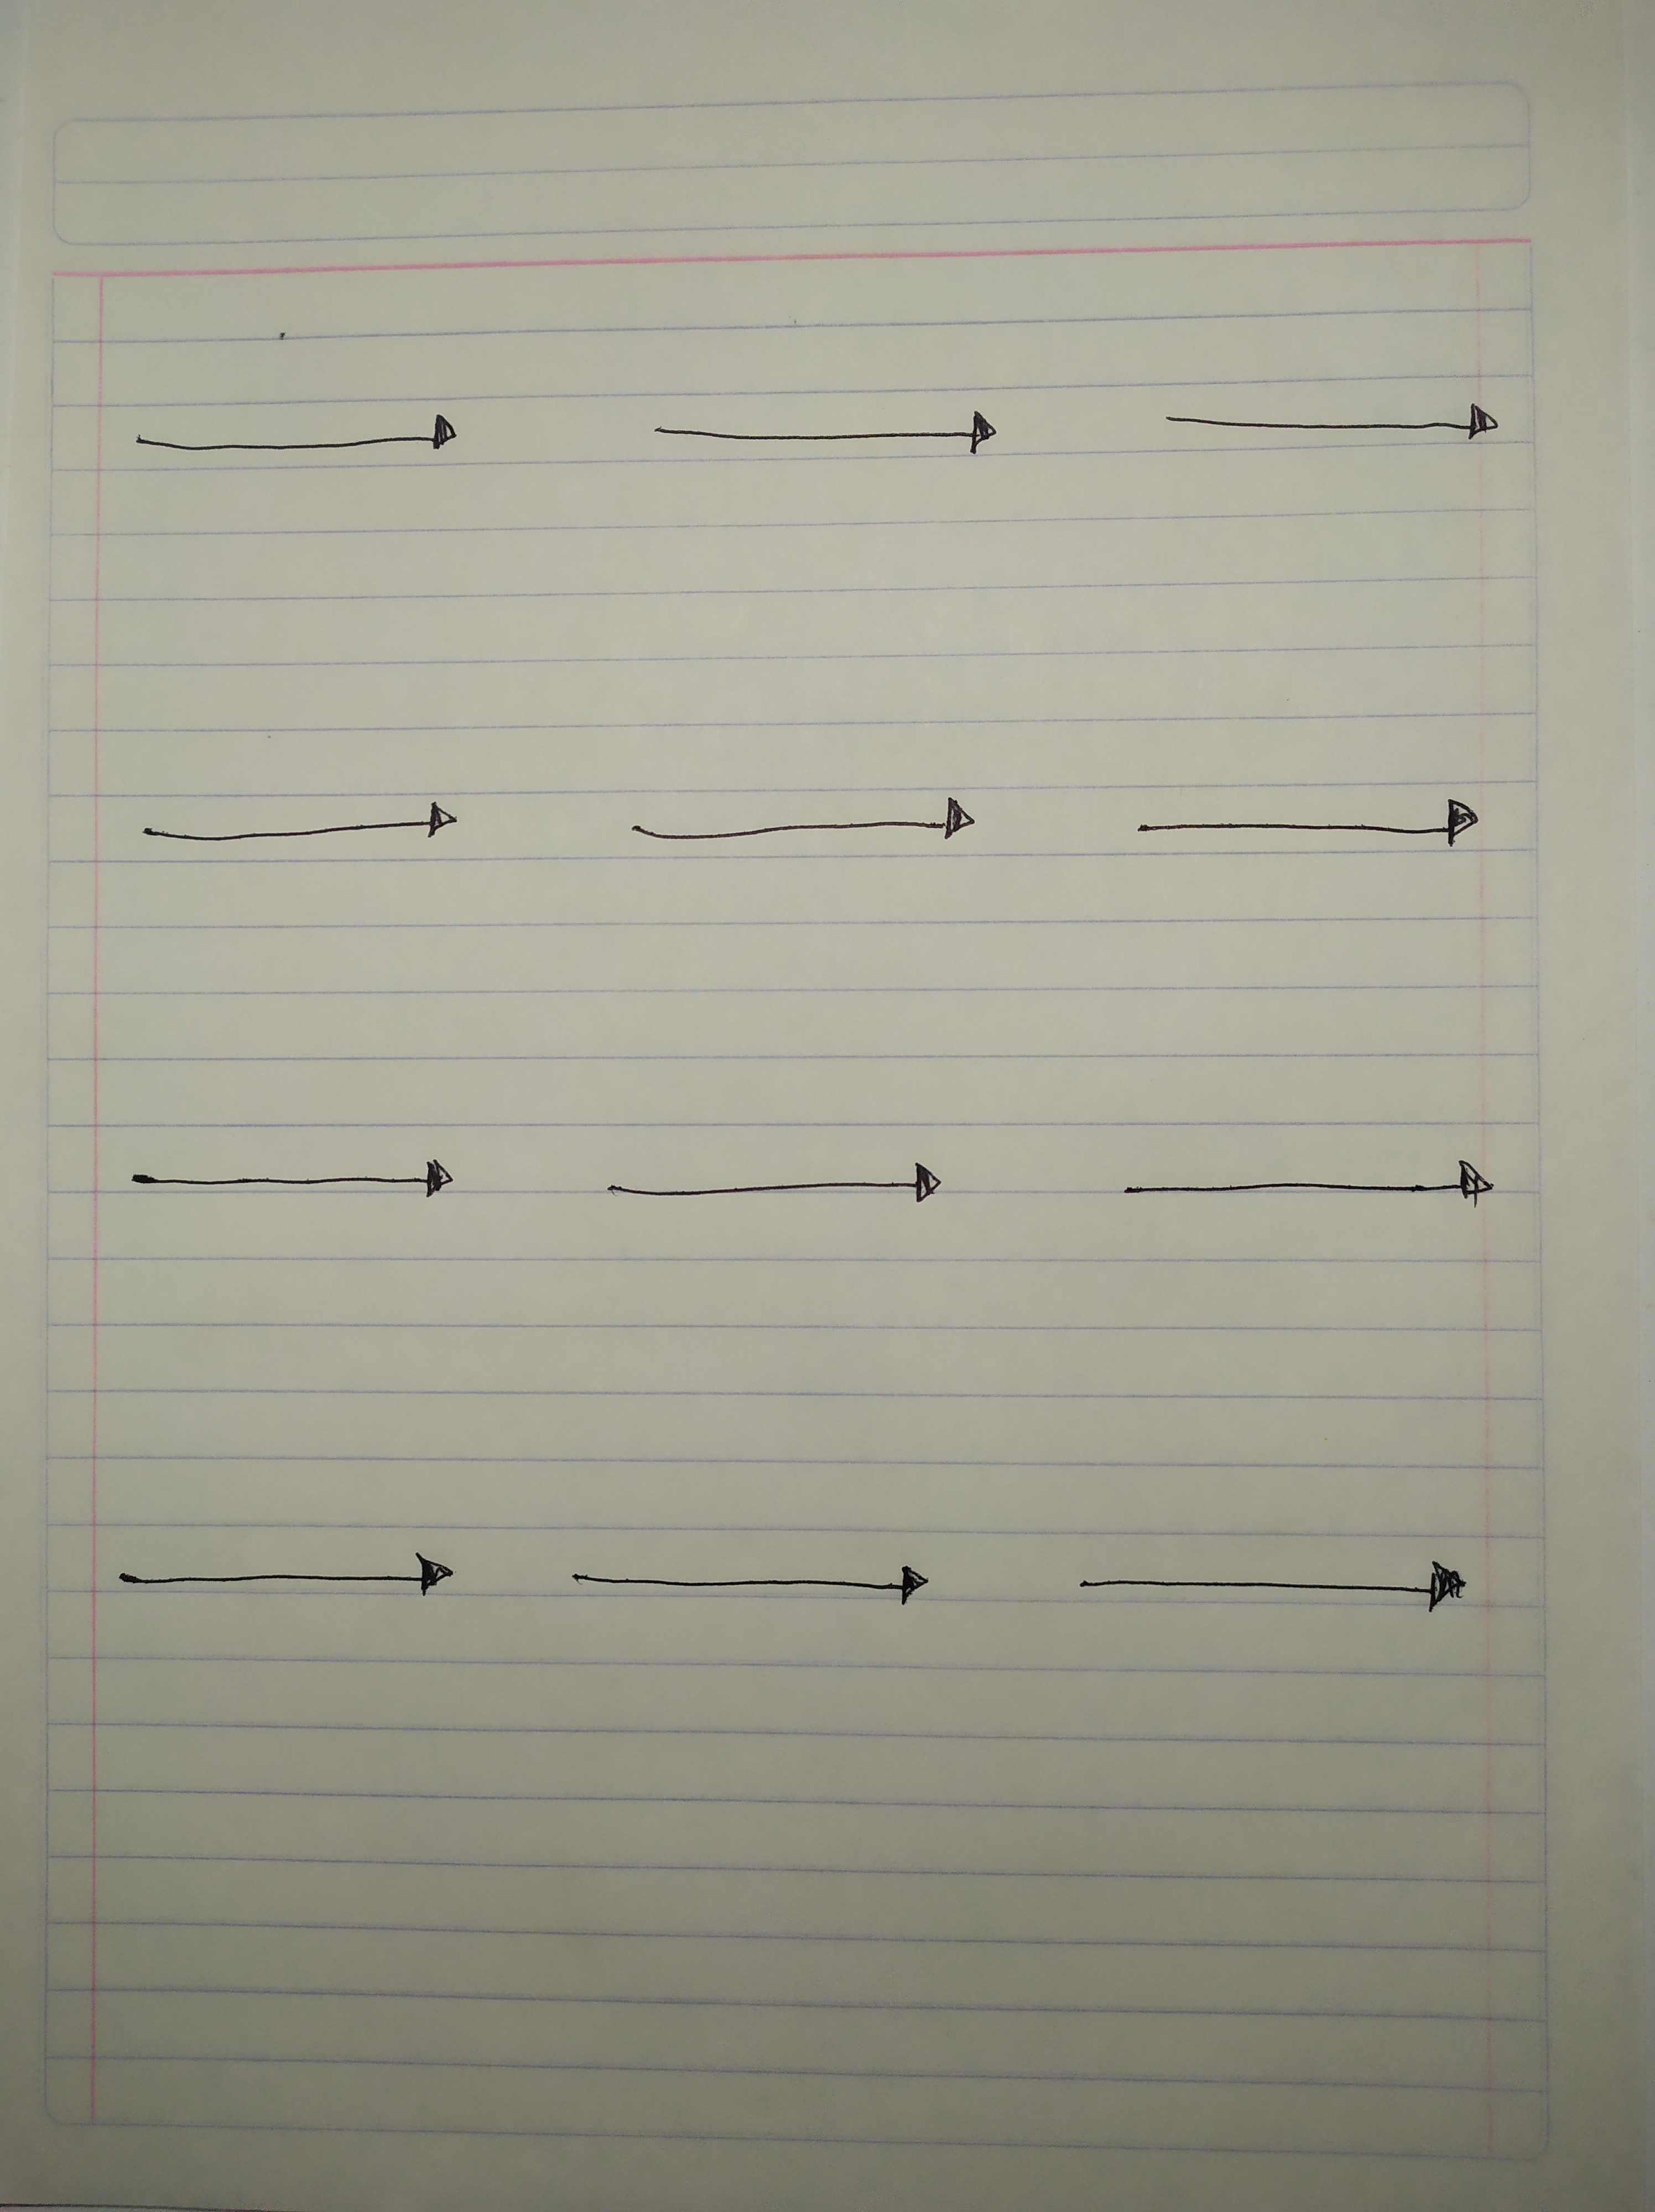arrow_line_right: (1088, 766, 1519, 900), (542, 1129, 1014, 1235), (106, 777, 515, 893), (1050, 1543, 1502, 1646), (1093, 1138, 1540, 1241), (1137, 374, 1573, 476), (605, 384, 1052, 481), (541, 1526, 965, 1625), (589, 777, 991, 878), (104, 1126, 487, 1230), (103, 1534, 492, 1632), (111, 398, 480, 476)
